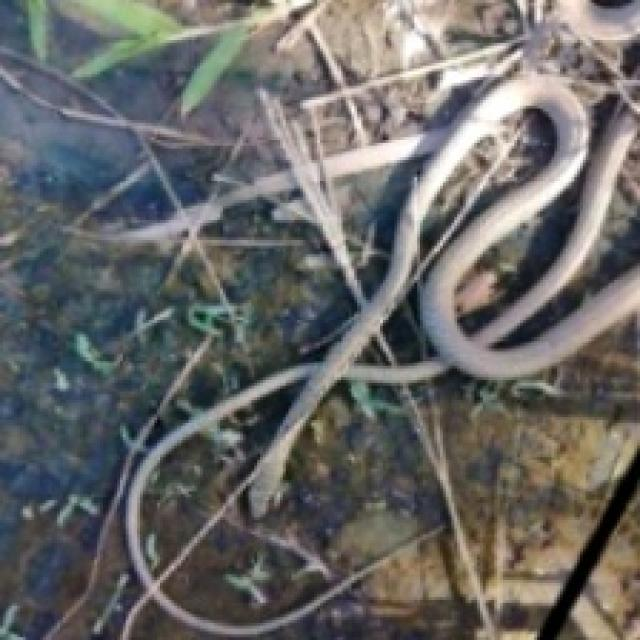paradise tree snake: (120, 0, 637, 637), (563, 503, 637, 637)
